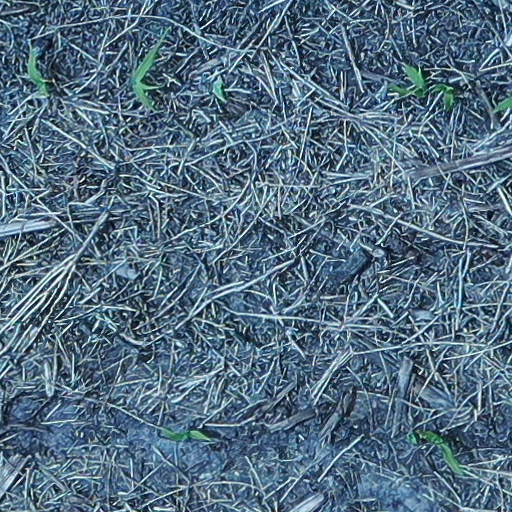planta: (132, 42, 161, 108), (419, 431, 463, 474), (389, 64, 426, 96), (27, 52, 47, 94), (431, 84, 453, 112), (162, 428, 210, 439)
